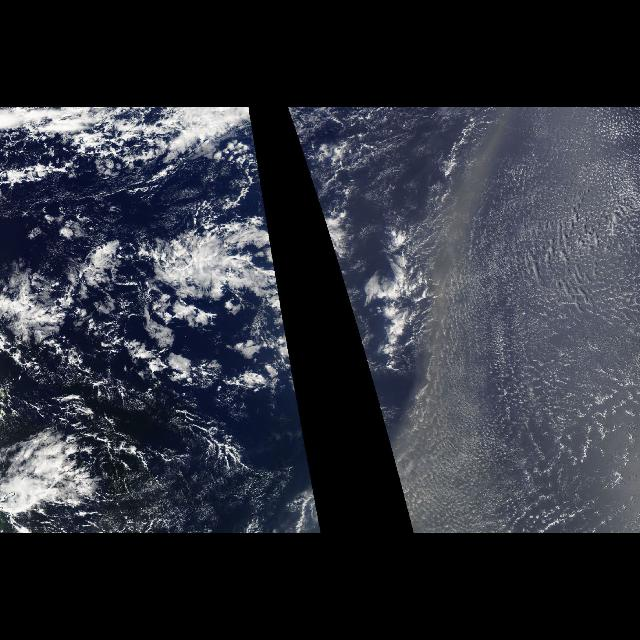Sugar: (388, 107, 640, 533)
